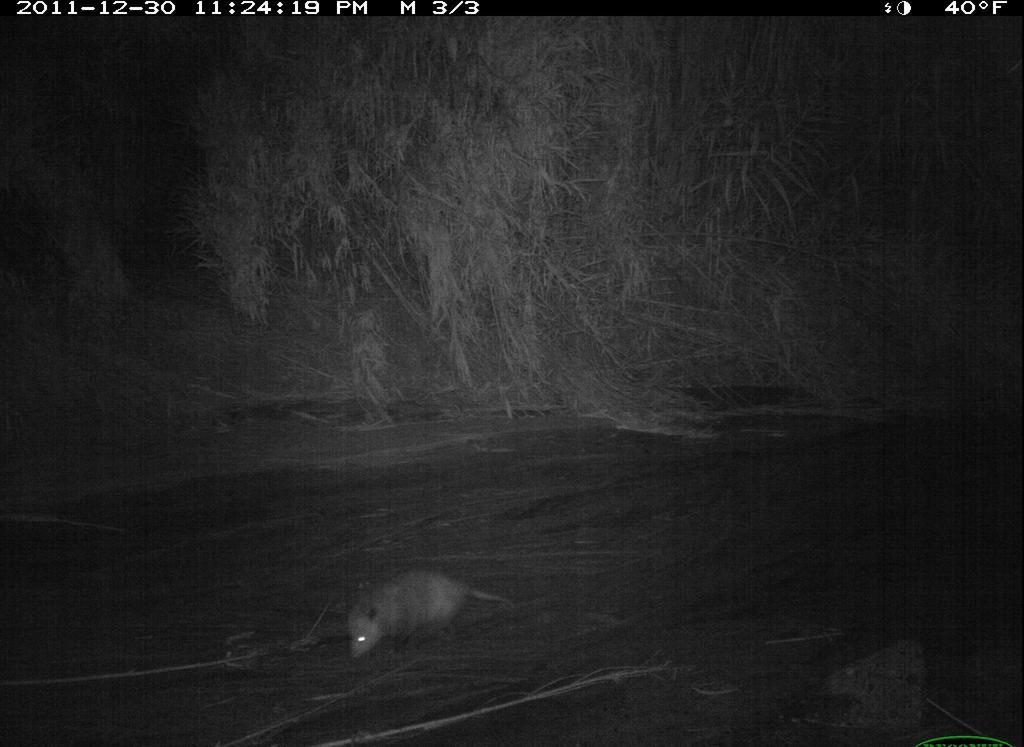opossum: (337, 564, 525, 666)
